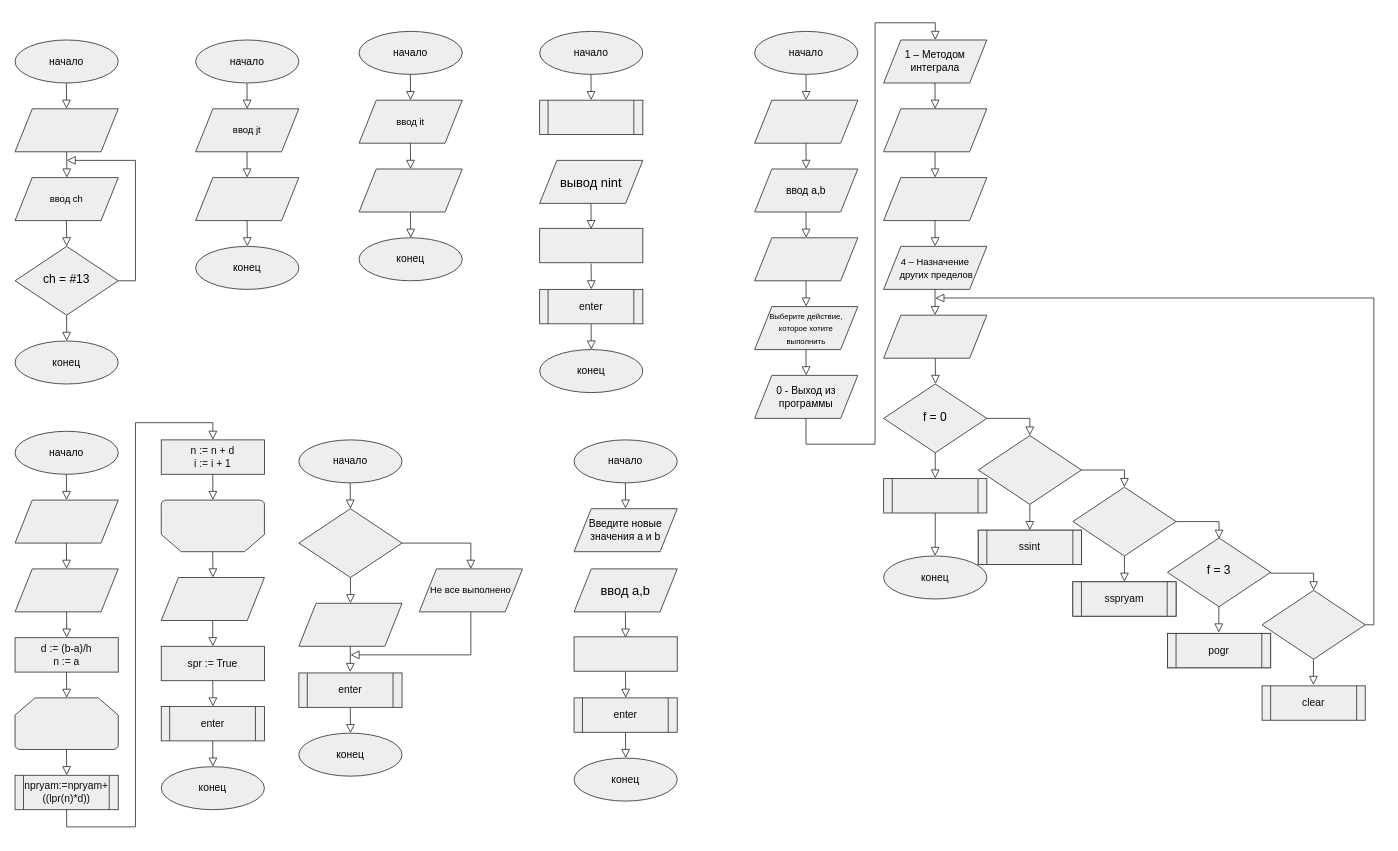
This 1398x851 diagram has some shape labels left out. The shapes that lost their labels are listed below. From the top down, each one's centre as x and y in pixels, then its label:
point (66, 130): Для выхода в основное меню нажмите <Enter>
point (591, 117): nint:=integral(b)-integral(a)
point (806, 121): Впишите пределы интегрирования:
point (935, 130): 2 – Методом левых прямоугольников
point (247, 199): (((jt*jt*jt*jt)/4)-(jt*jt)-17*jt)
point (410, 190): ((it*it*it)+(it*it) -2*it-17)
point (935, 199): 3 – Оценка погрешности полученного результата между двумя методами
point (591, 245): sint:=True
point (806, 259): Пределы интегрирования [',a,' ; ',b,']
point (935, 336): ввод f
point (1029, 469): f = 1
point (935, 495): exit
point (66, 521): Введите кол-во прямоугольников:
point (212, 525): Цикл 1
point (1124, 521): f = 2
point (350, 542): spr и sint
point (66, 590): ввод h
point (212, 598): вывод npryam
point (350, 624): 'Погрешность:' nint-npryam
point (1313, 624): f = 4
point (625, 653): spr:=False; sint:=False;
point (66, 723): Цикл 1 i > h
